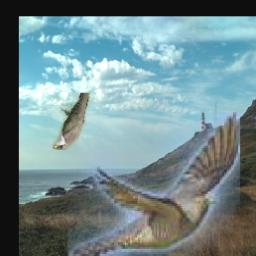Cuckoo: (67, 113, 240, 256), (53, 93, 90, 150)
